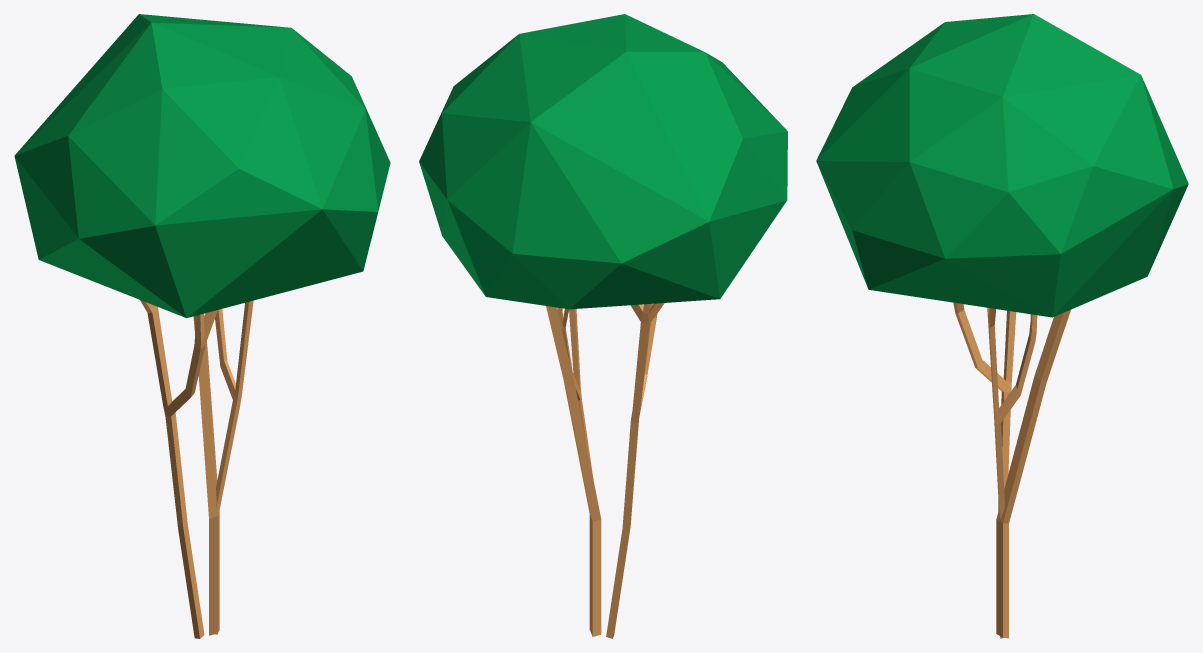
File: Bush_4.fbx
3 views of the same model, side by side, from view 1: azimuth 30°, elevation 25°; view 2: azimuth 150°, elevation 25°; view 3: azimuth 270°, elevation 25° (orthographic).
Visible parts, largest first — view 1: Bush 4_LOD0; view 2: Bush 4_LOD0; view 3: Bush 4_LOD0.
Boxes of the visible parts, x1,y1,x2,y2 form: Bush 4_LOD0: [14, 14, 390, 638]; Bush 4_LOD0: [419, 14, 787, 638]; Bush 4_LOD0: [816, 14, 1188, 638].
Size of what is drawn, in the model's own units: 61.19 by 114 by 64.04.
